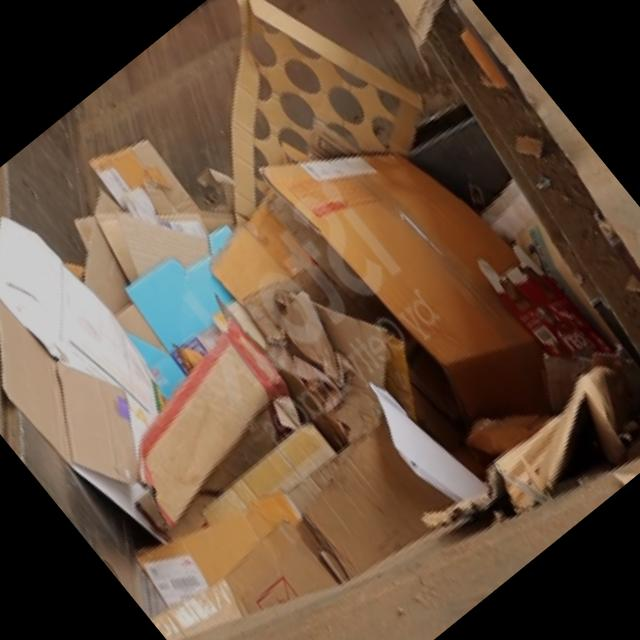Kardus: (0, 0, 640, 640), (256, 73, 606, 457), (124, 0, 446, 266), (75, 294, 318, 532)
